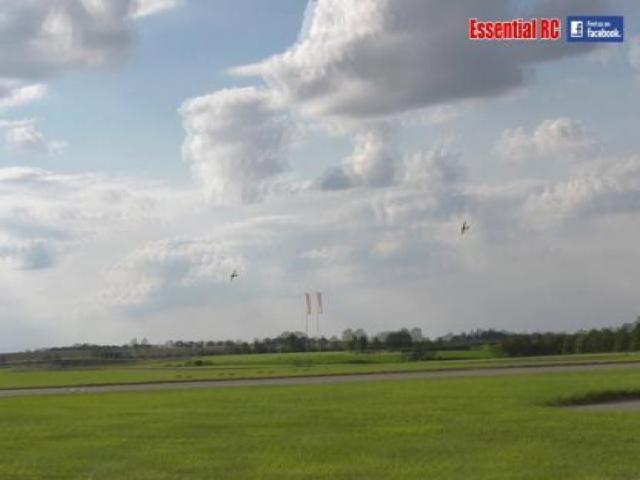uav: (456, 220, 470, 234), (228, 268, 242, 282)
